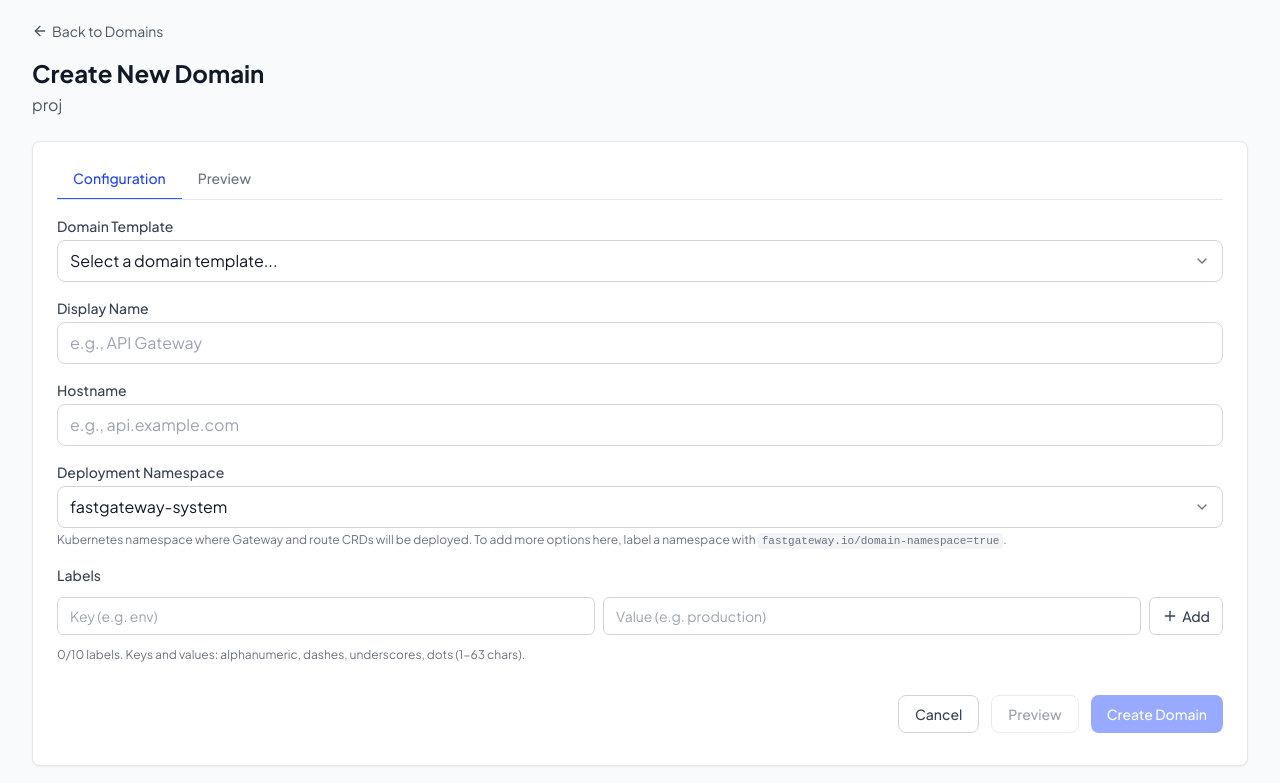
Test: surfaces the DNS collision 409 error on create
The width and height of the screenshot is (1280, 783).
Select "tpl (ClusterIP)" in the dropdown labelled "Domain Template" at (640, 261), box [57,240,1223,282]
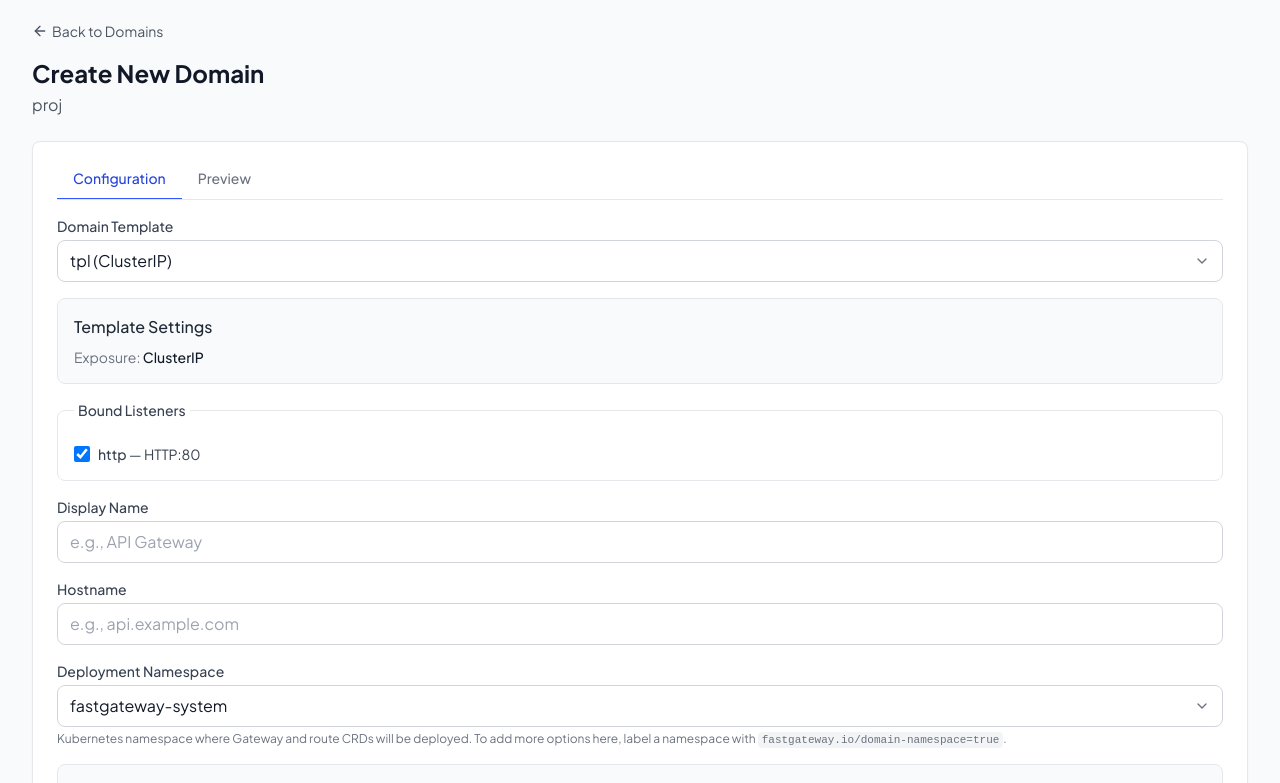
Type "My Domain" into the field labelled "Display Name" at (640, 542), box [57,521,1223,563]
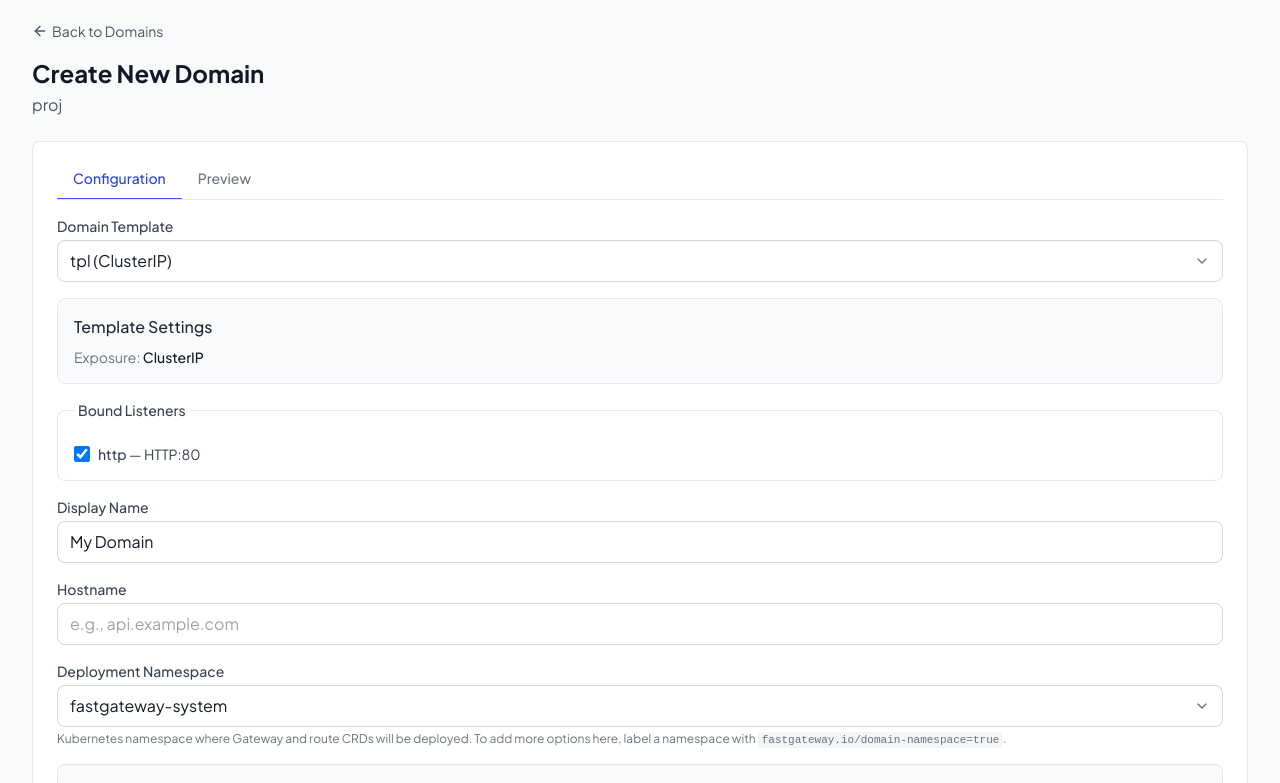
Type "app.example.com" into the field labelled "Hostname" at (640, 624), box [57,603,1223,645]
(page scrolled)
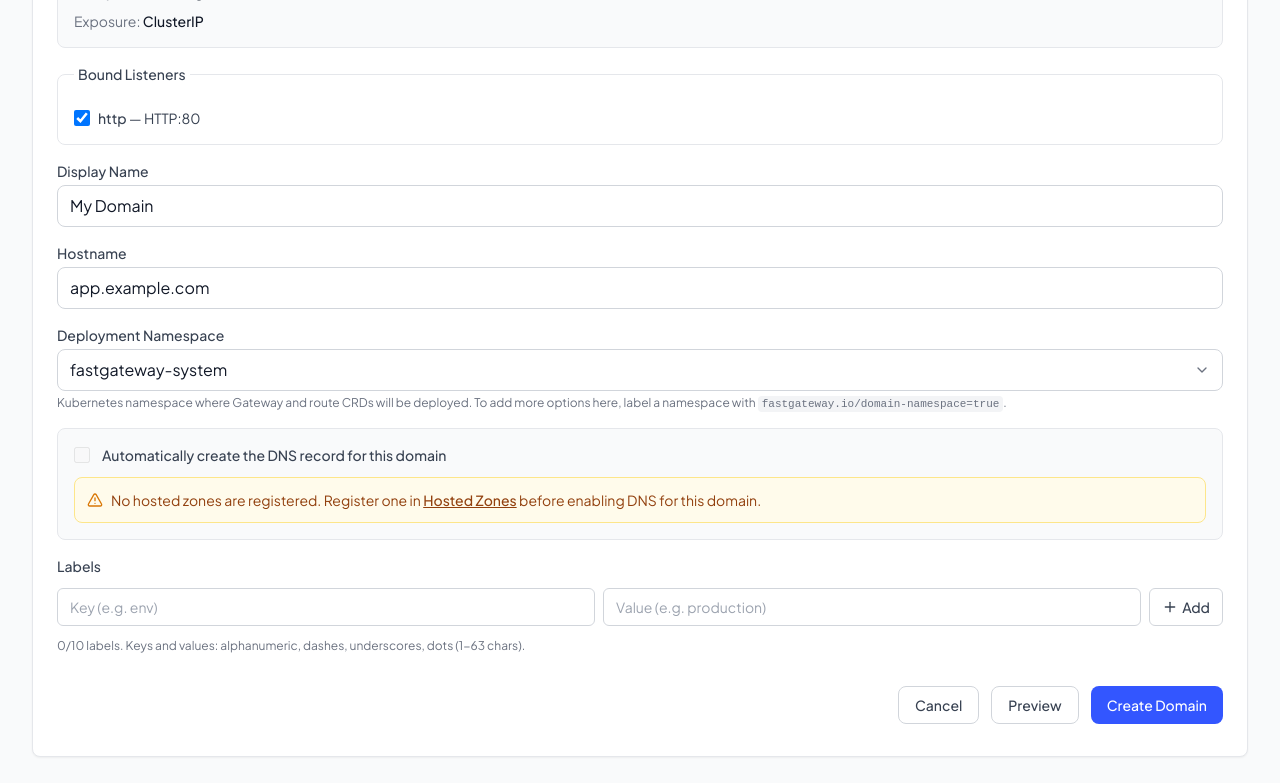
Click the button "Create Domain" at (1157, 705), box [1091,686,1223,724]
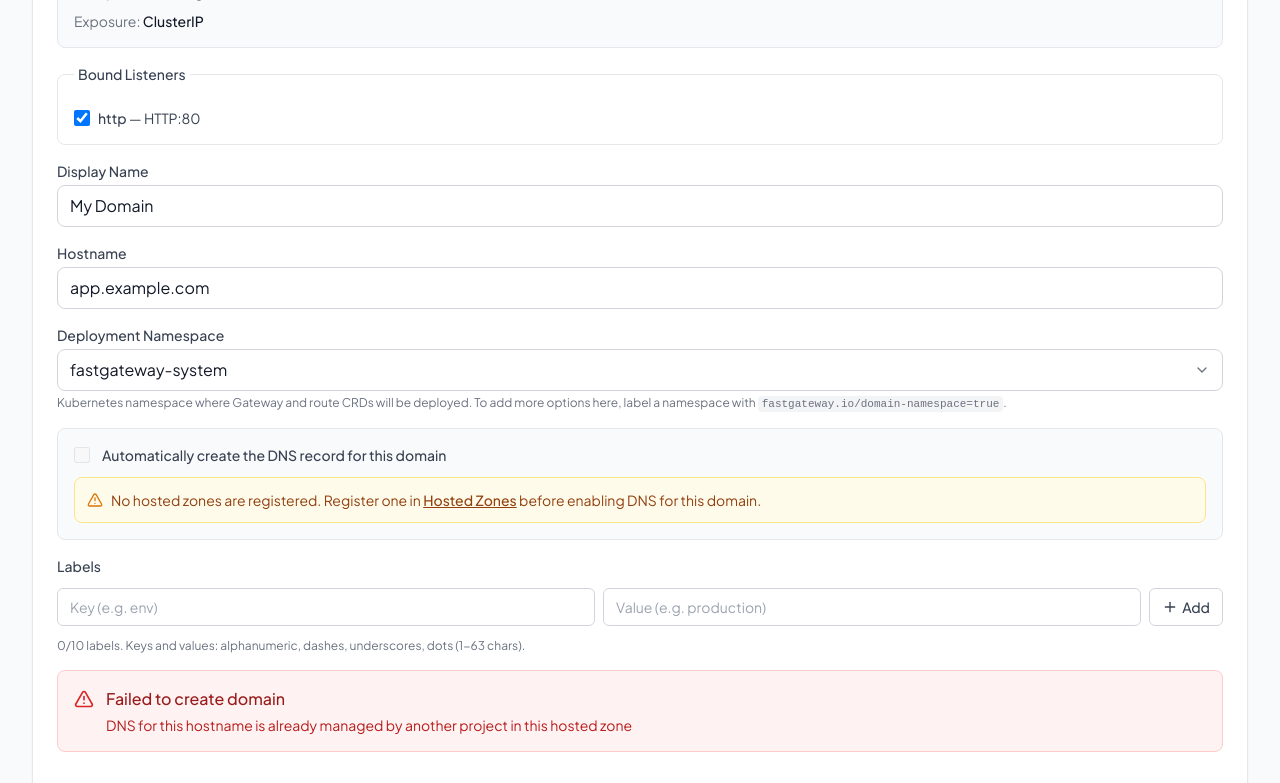
Expected: the text "already managed by another project" is shown, [106,716,632,734]
